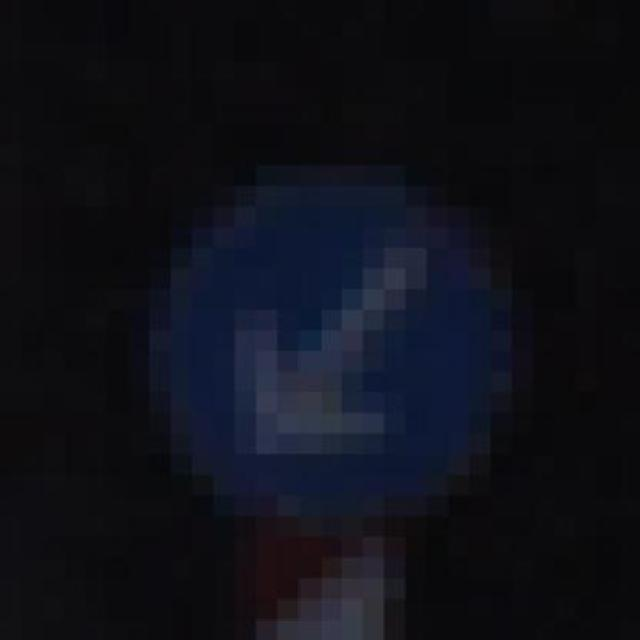Keep-Left: (128, 144, 555, 558)
